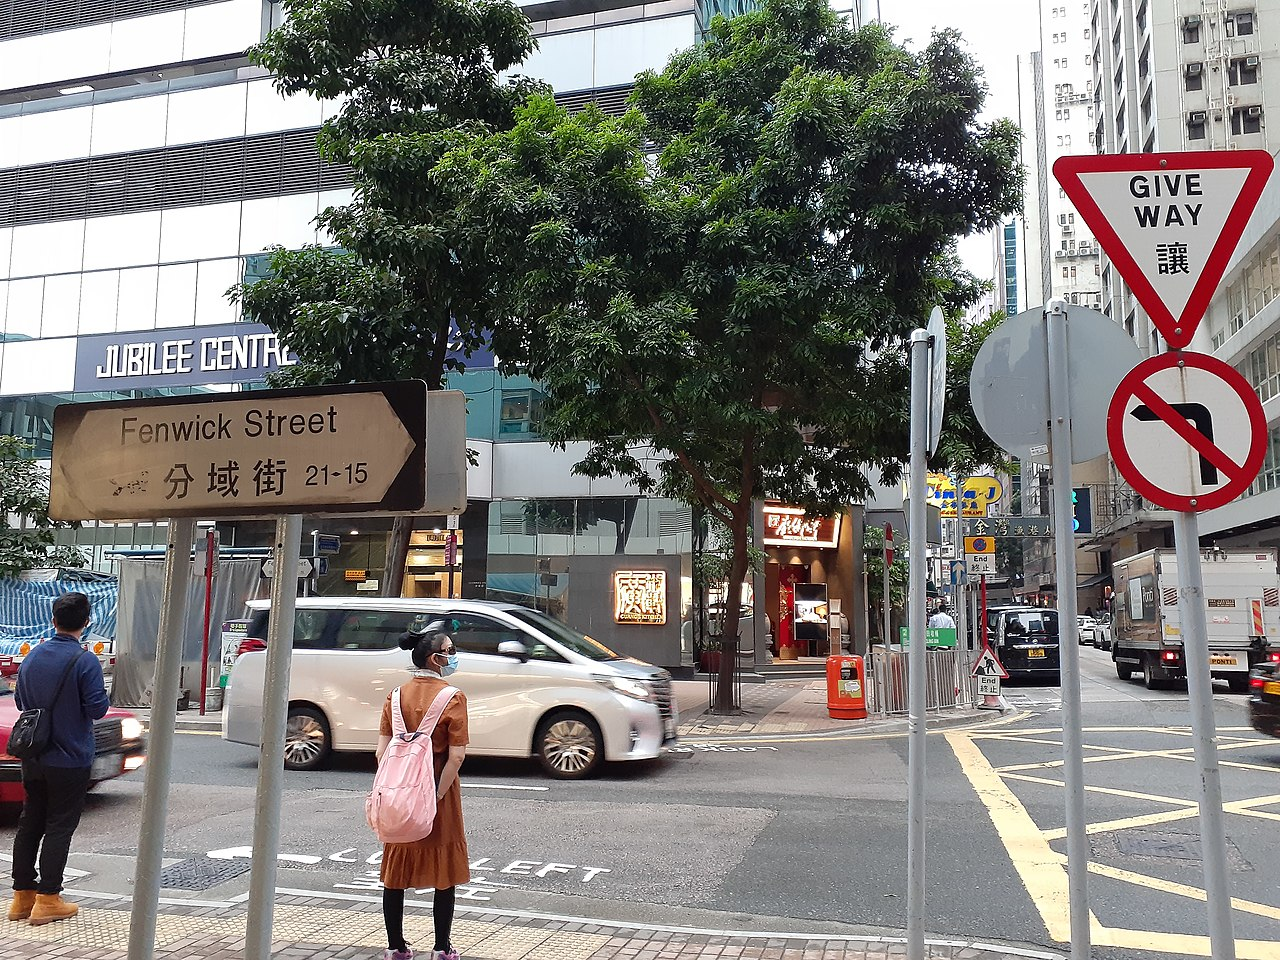Give Way: (1042, 145, 1277, 330)
No Turn Left: (1105, 348, 1274, 507)
